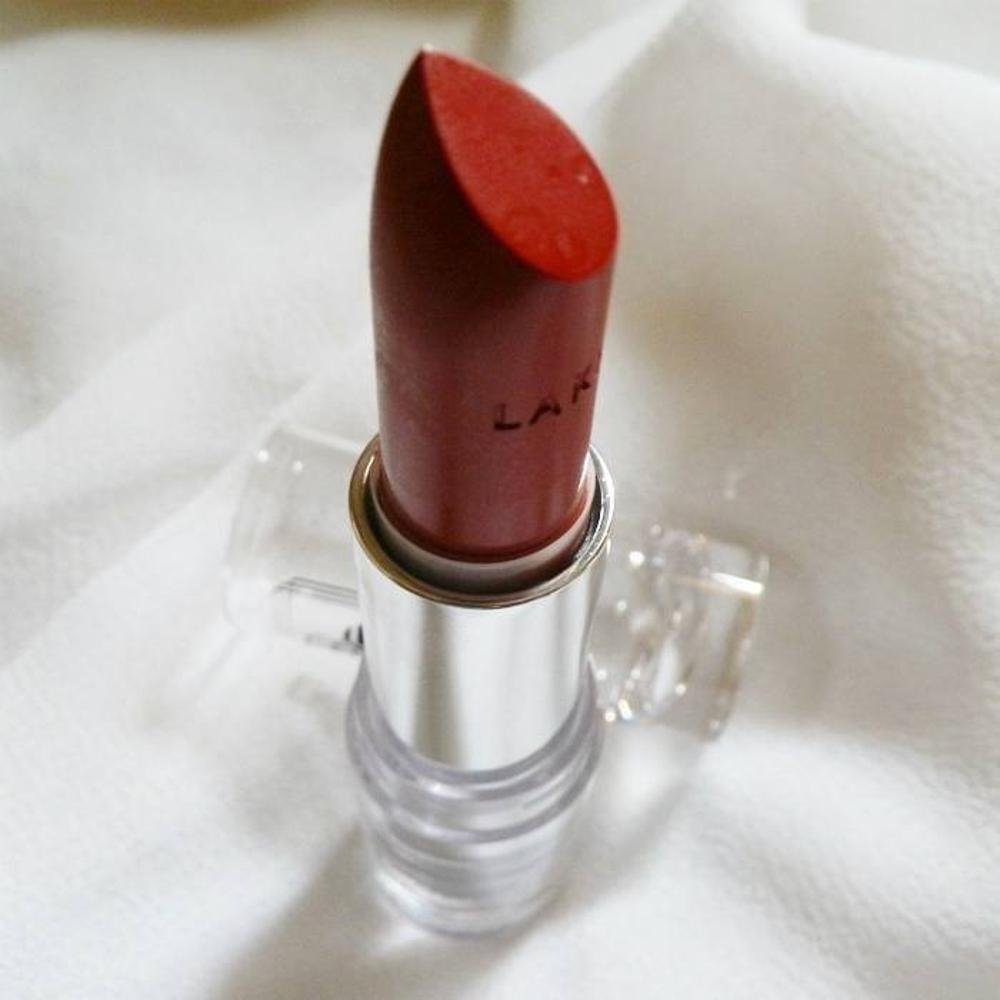lipstick: (324, 0, 674, 940)
